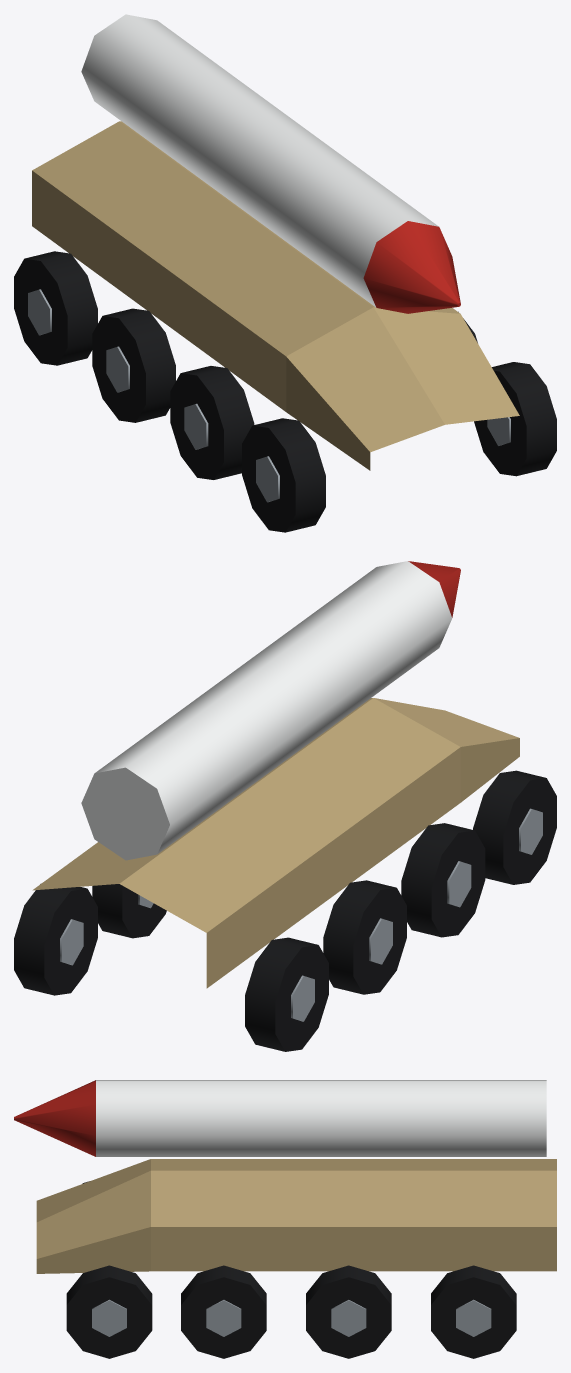
File: veh_ground_missile_carrier_a07.glb
3 renders of one model, top to bottom at view 1: azimuth 30°, elevation 25°; view 2: azimuth 150°, elevation 25°; view 3: azimuth 270°, elevation 25°, orthographic. The views are drawn at different scales.
Visible parts, largest first — view 1: body, launcher, wheel_6, wheel_2, wheel_0, wheel_4, wheel_7; view 2: body, launcher, wheel_0, wheel_4, wheel_2, wheel_1, wheel_6, wheel_3; view 3: body, launcher, wheel_7, wheel_3, wheel_1, wheel_5.
Part boxes in pixels (<box>): body: <box>32,121,519,470</box>; launcher: <box>81,14,460,313</box>; wheel_6: <box>242,418,325,532</box>; wheel_2: <box>92,308,175,422</box>; wheel_0: <box>14,251,97,365</box>; wheel_4: <box>170,366,254,479</box>; wheel_7: <box>474,362,556,476</box>; body: <box>32,698,519,988</box>; launcher: <box>81,561,460,860</box>; wheel_0: <box>245,937,328,1051</box>; wheel_4: <box>401,823,485,937</box>; wheel_2: <box>323,880,406,994</box>; wheel_1: <box>14,884,97,995</box>; wheel_6: <box>473,770,556,884</box>; wheel_3: <box>92,884,166,938</box>; body: <box>36,1159,556,1273</box>; launcher: <box>14,1080,546,1156</box>; wheel_7: <box>66,1265,152,1358</box>; wheel_3: <box>306,1265,391,1358</box>; wheel_1: <box>431,1265,516,1358</box>; wheel_5: <box>181,1265,266,1358</box>.
Size of what is drawn, in the model's own units: 2.98 by 3.05 by 6.62.
